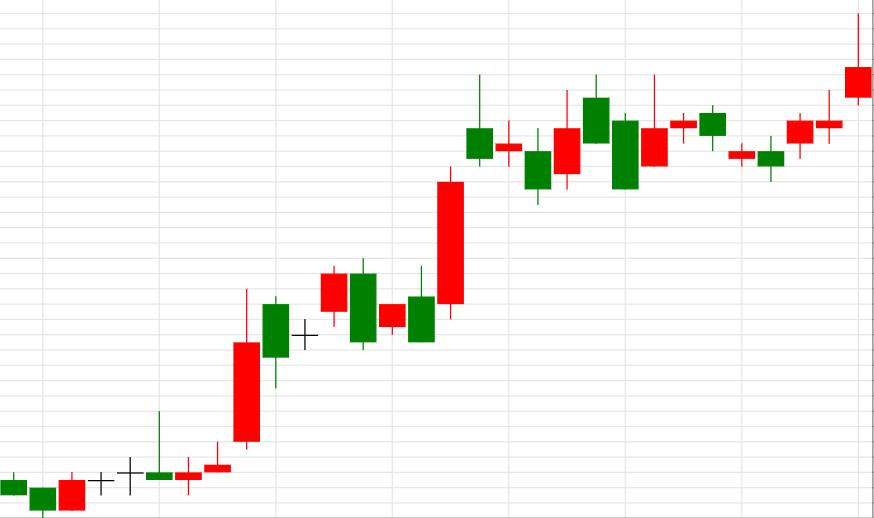shooting_star_fall: (350, 75, 492, 348), (758, 12, 873, 182)
